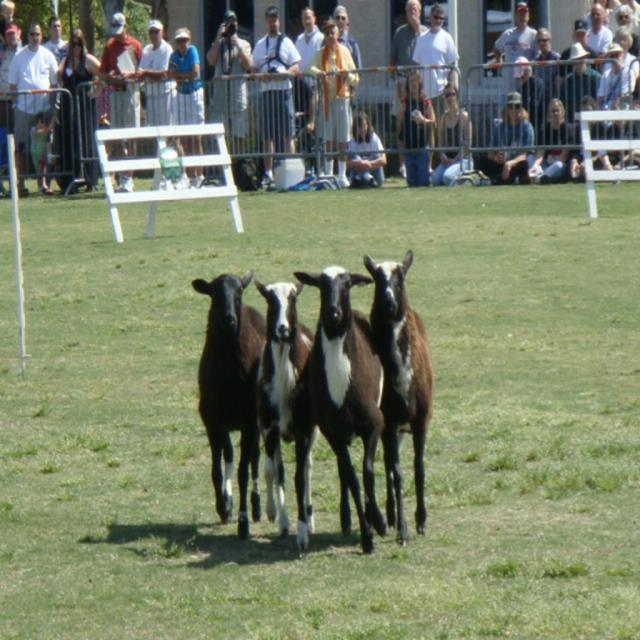Goat: (292, 265, 387, 554), (363, 247, 434, 546), (191, 268, 267, 539), (254, 275, 318, 552)
